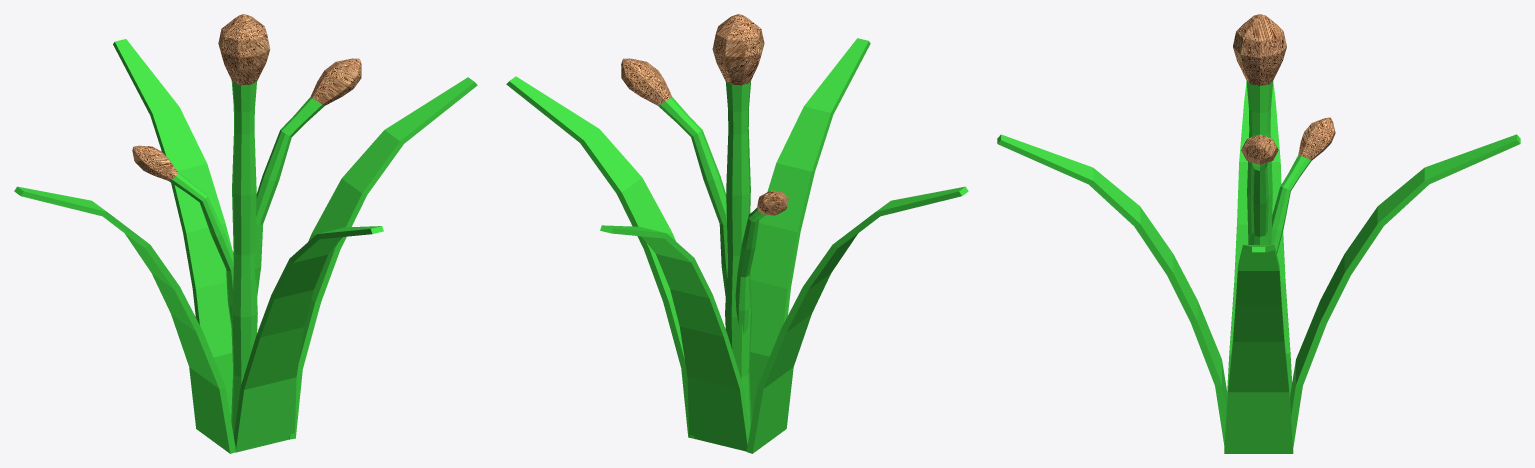
File: Plant_modified.gltf
3 views of the same model, side by side, from view 1: azimuth 30°, elevation 25°; view 2: azimuth 150°, elevation 25°; view 3: azimuth 270°, elevation 25° (orthographic).
Parts seen in each view (by area): view 1: Plant_modified; view 2: Plant_modified; view 3: Plant_modified.
Boxes of the visible parts, box(x1,y1,x2,y2) form: Plant_modified: box(14, 14, 477, 453); Plant_modified: box(506, 14, 968, 453); Plant_modified: box(997, 14, 1520, 453).
Size of the model in its own units: 75.28 by 66.16 by 74.08.
Materials: 2 (1 with a texture image).
